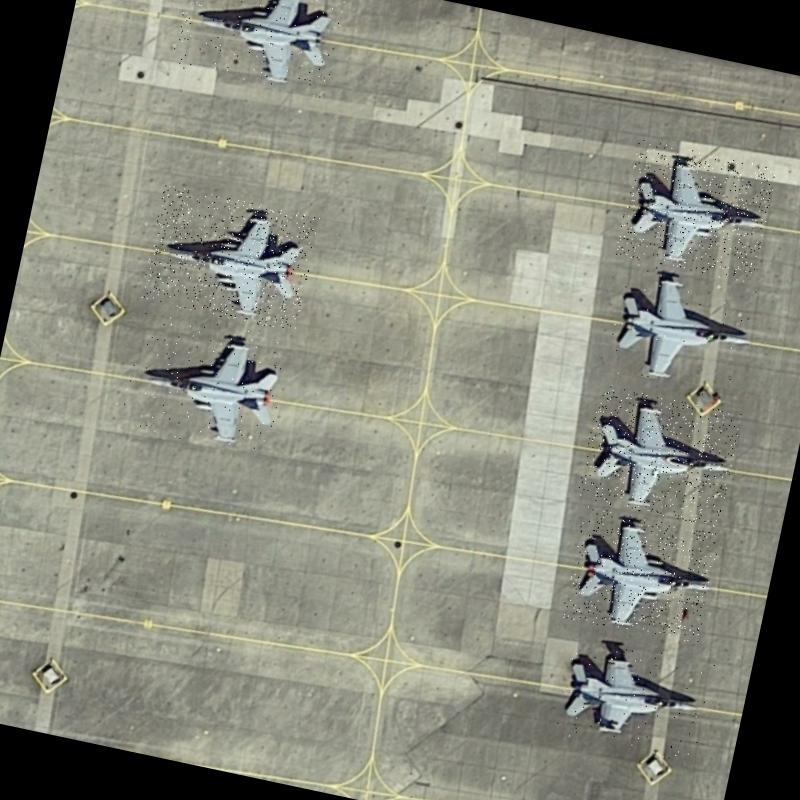A16: (140, 184, 320, 332), (118, 308, 293, 458), (594, 255, 764, 403), (614, 139, 778, 286), (576, 384, 742, 528), (561, 506, 721, 646), (550, 632, 715, 764), (169, 0, 348, 99)
